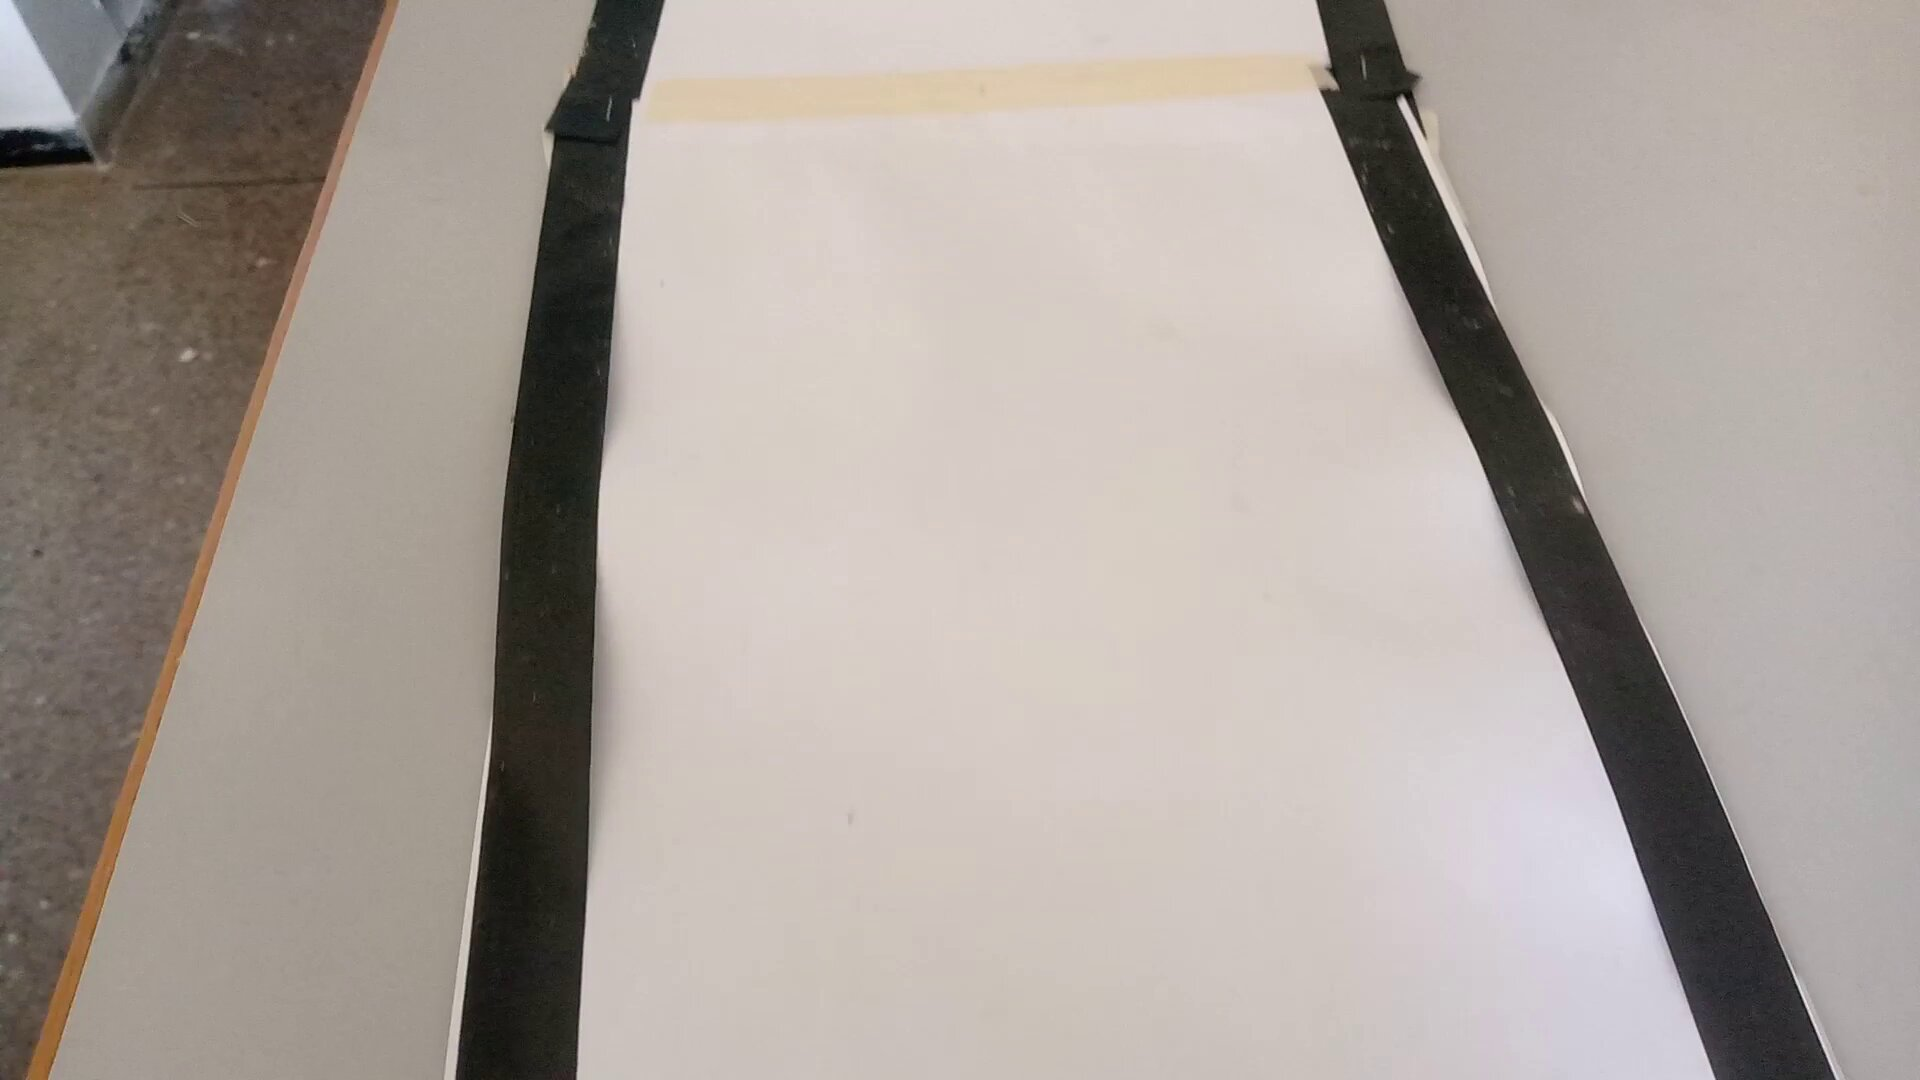forward: (465, 287, 1622, 600), (436, 705, 1785, 957)
right: (531, 3, 1516, 233)
